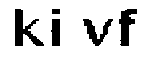f: (118, 7, 145, 48)
i: (48, 7, 68, 49)
k: (11, 5, 45, 47)
v: (77, 17, 114, 49)
